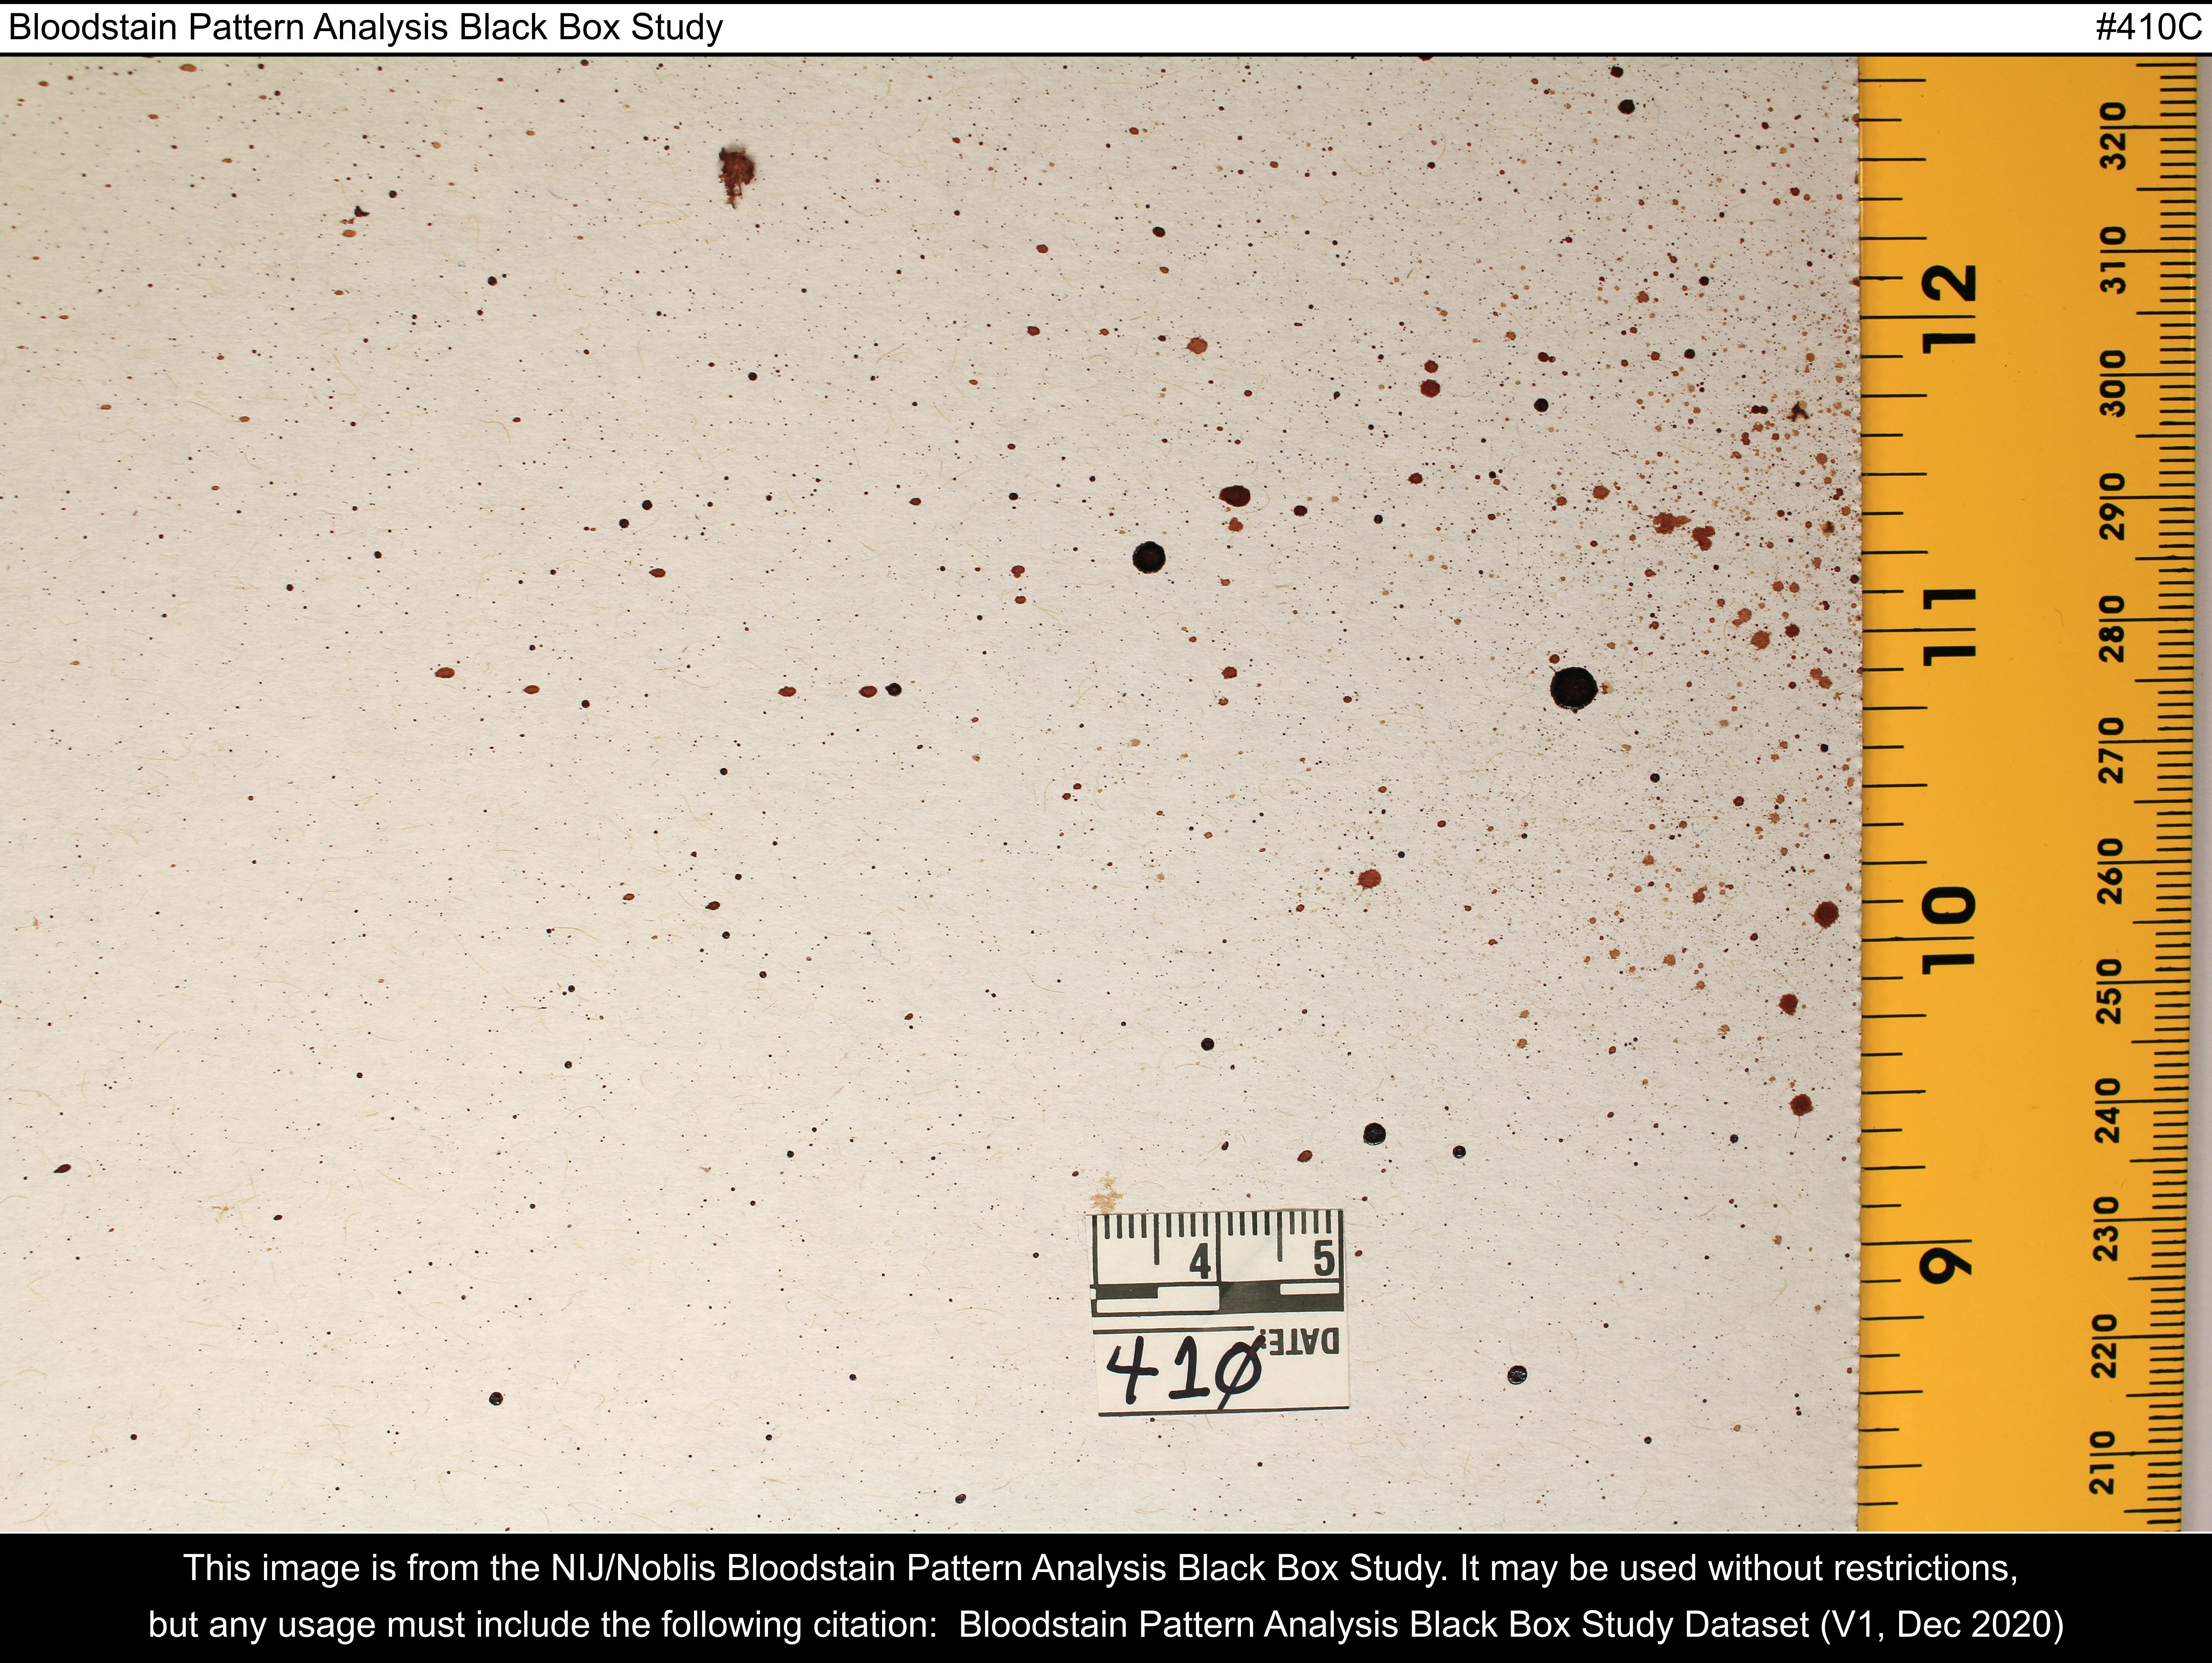Impact: (1072, 278, 1861, 1062)
